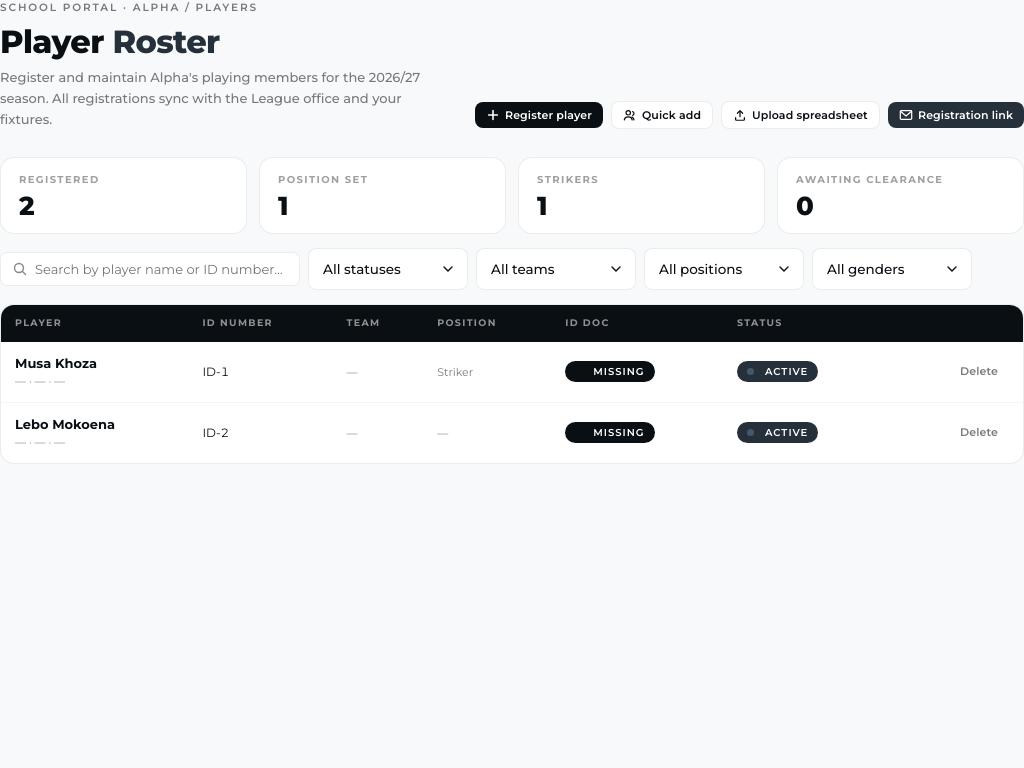
Scenario: ClubPlayersView — positions profile (football) › gates the veterans affiliates query and the detail modal veterans section
Click the text "Musa Khoza".
click(56, 363)  # box [15, 355, 97, 371]
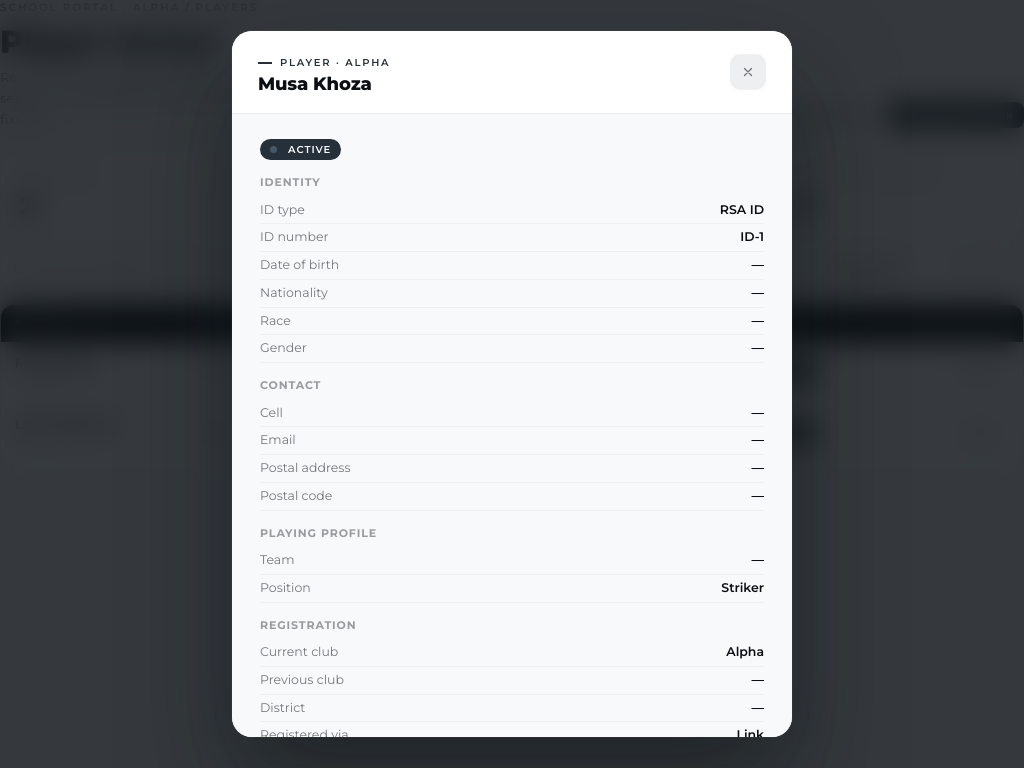
Now the text "Playing profile" is shown, box [260, 526, 377, 540]
